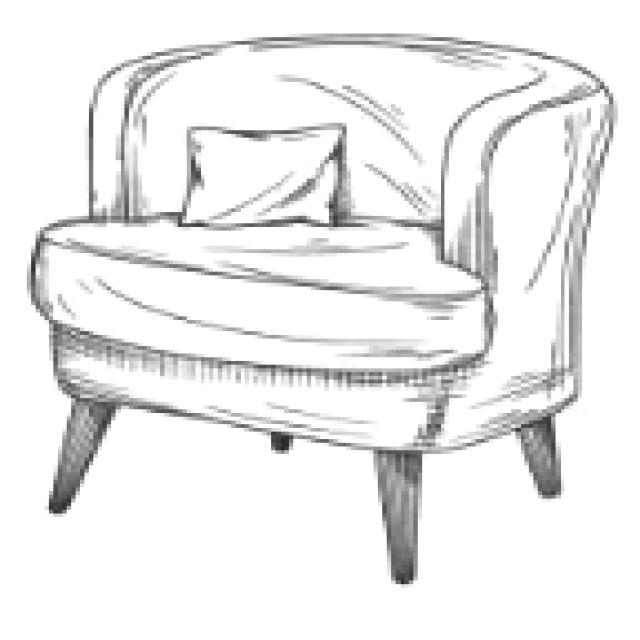Armrest: (430, 68, 618, 436), (82, 36, 245, 222)
Backrest: (120, 30, 569, 227)
Leg_Structure: (40, 386, 574, 591)
Seat: (32, 217, 487, 372)
